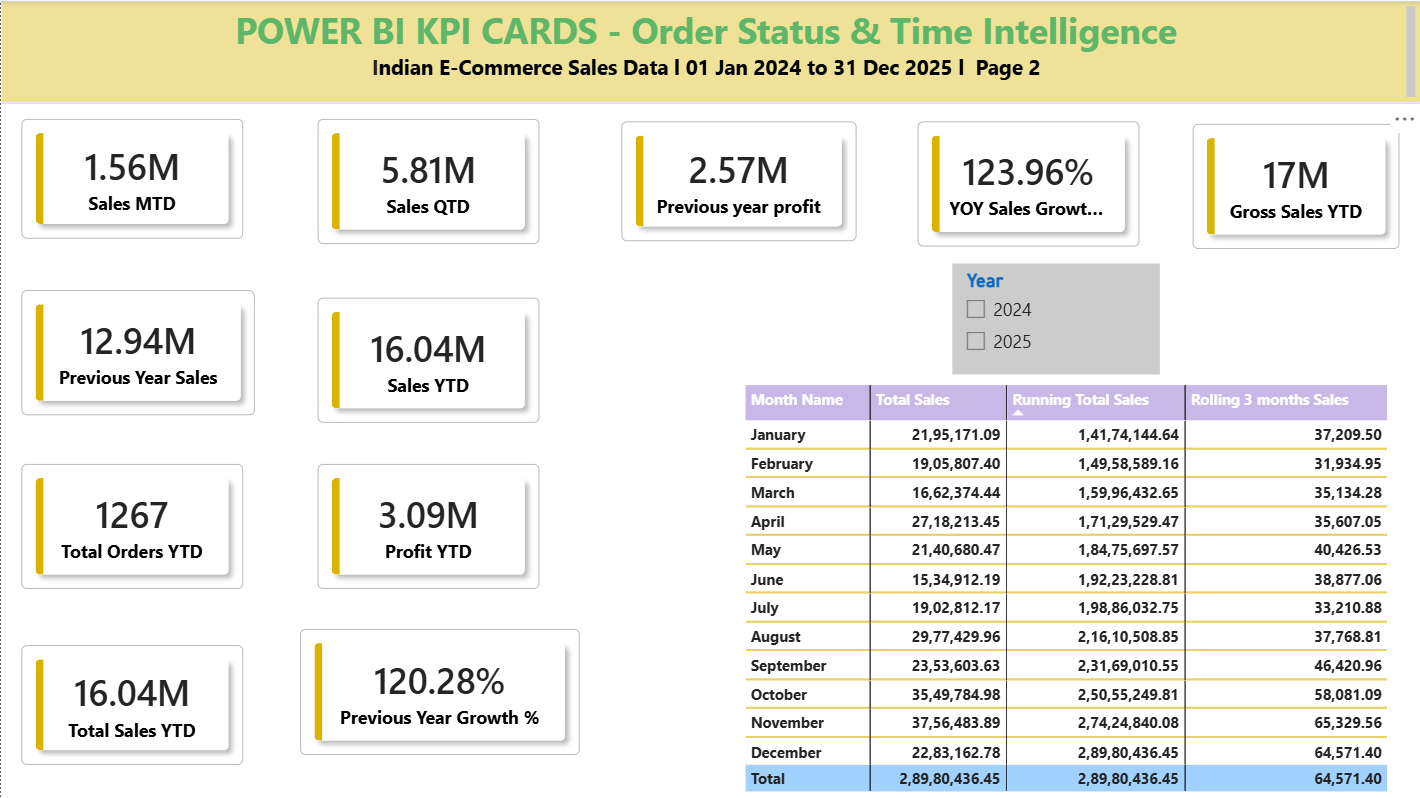

What the dashboard file says about the page in this screenshot:
{"tool":"powerbi","page":{"name":"Time Intelligence","canvas":[1280,720],"ordinal":1},"visuals":[{"type":"cardVisual","fields":{"Data":["Measure_Table.Sales MTD"]},"box":[0,88,236,144.3],"z":0},{"type":"cardVisual","fields":{"Data":["Measure_Table.Sales QTD"]},"box":[266.6,88,236,149.2],"z":1000},{"type":"cardVisual","fields":{"Data":["Measure_Table.Sales YTD"]},"box":[266.6,249.5,236,149.2],"z":2000},{"type":"cardVisual","fields":{"Data":["Measure_Table.Profit YTD"]},"box":[266.6,398.6,236,149.2],"z":3000},{"type":"cardVisual","fields":{"Data":["Measure_Table.Gross Sales YTD"]},"box":[1056.5,92.9,223.8,149.2],"z":4000},{"type":"cardVisual","fields":{"Data":["Measure_Table.Net Sales YTD"]},"box":[0,562.5,236,144.3],"z":5000},{"type":"cardVisual","fields":{"Data":["Measure_Table.Total Orders YTD"]},"box":[0,398.6,236,149.2],"z":6000},{"type":"cardVisual","fields":{"Data":["Measure_Table.Previous Year Sales1"]},"box":[0,242.1,247,149.2],"z":7000},{"type":"cardVisual","fields":{"Data":["Measure_Table.YOY Sales Growth%"]},"box":[808.3,90.5,236,149.2],"z":8000},{"type":"cardVisual","fields":{"Data":["Measure_Table.Previous year profit"]},"box":[540.5,90.5,248.2,144.3],"z":9000},{"type":"cardVisual","fields":{"Data":["Measure_Table.Previous Year Growth %"]},"box":[251.9,547.8,288.6,150.4],"z":10000},{"type":"tableEx","fields":{"Values":["Date.Month Name","Measure_Table.Total Sales","Measure_Table.Running Total Sales","Measure_Table.Rolling 3 months Sales"]},"box":[665.2,341.2,591.9,379.1],"z":11000},{"type":"slicer","fields":{"Values":["Date.Year"]},"box":[857.2,237.2,187.1,100.3],"z":12000},{"type":"textbox","box":[0,0,1280.3,92.9],"z":12003}]}

Visuals, with their boxes in screenshot pixels (x1, y1, x2, y2), scaled from the page's 1280x720 canvas onto the 1420x798 screenshot:
cardVisual - Measure_Table.Sales MTD: [x1=0, y1=98, x2=262, y2=257]
cardVisual - Measure_Table.Sales QTD: [x1=296, y1=98, x2=558, y2=263]
cardVisual - Measure_Table.Sales YTD: [x1=296, y1=277, x2=558, y2=442]
cardVisual - Measure_Table.Profit YTD: [x1=296, y1=442, x2=558, y2=607]
cardVisual - Measure_Table.Gross Sales YTD: [x1=1172, y1=103, x2=1419, y2=268]
cardVisual - Measure_Table.Net Sales YTD: [x1=0, y1=623, x2=262, y2=783]
cardVisual - Measure_Table.Total Orders YTD: [x1=0, y1=442, x2=262, y2=607]
cardVisual - Measure_Table.Previous Year Sales1: [x1=0, y1=268, x2=274, y2=434]
cardVisual - Measure_Table.YOY Sales Growth%: [x1=897, y1=100, x2=1159, y2=266]
cardVisual - Measure_Table.Previous year profit: [x1=600, y1=100, x2=875, y2=260]
cardVisual - Measure_Table.Previous Year Growth %: [x1=279, y1=607, x2=600, y2=774]
tableEx - Date.Month Name x Measure_Table.Total Sales: [x1=738, y1=378, x2=1395, y2=797]
slicer - Date.Year: [x1=951, y1=263, x2=1159, y2=374]
textbox: [x1=0, y1=0, x2=1419, y2=103]
